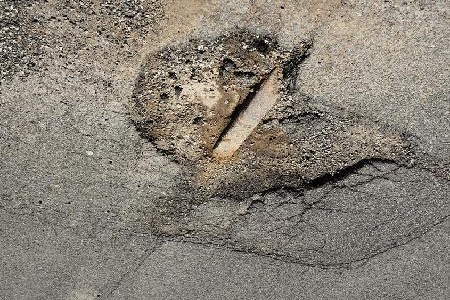pothole: (124, 24, 418, 205)
